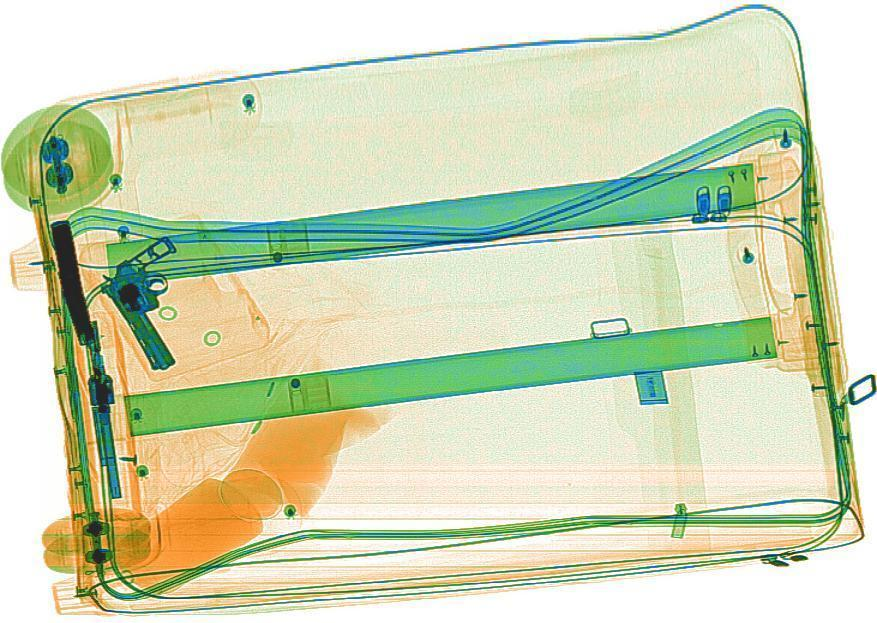Gun: (86, 234, 221, 376), (30, 213, 113, 359), (76, 320, 128, 499)
